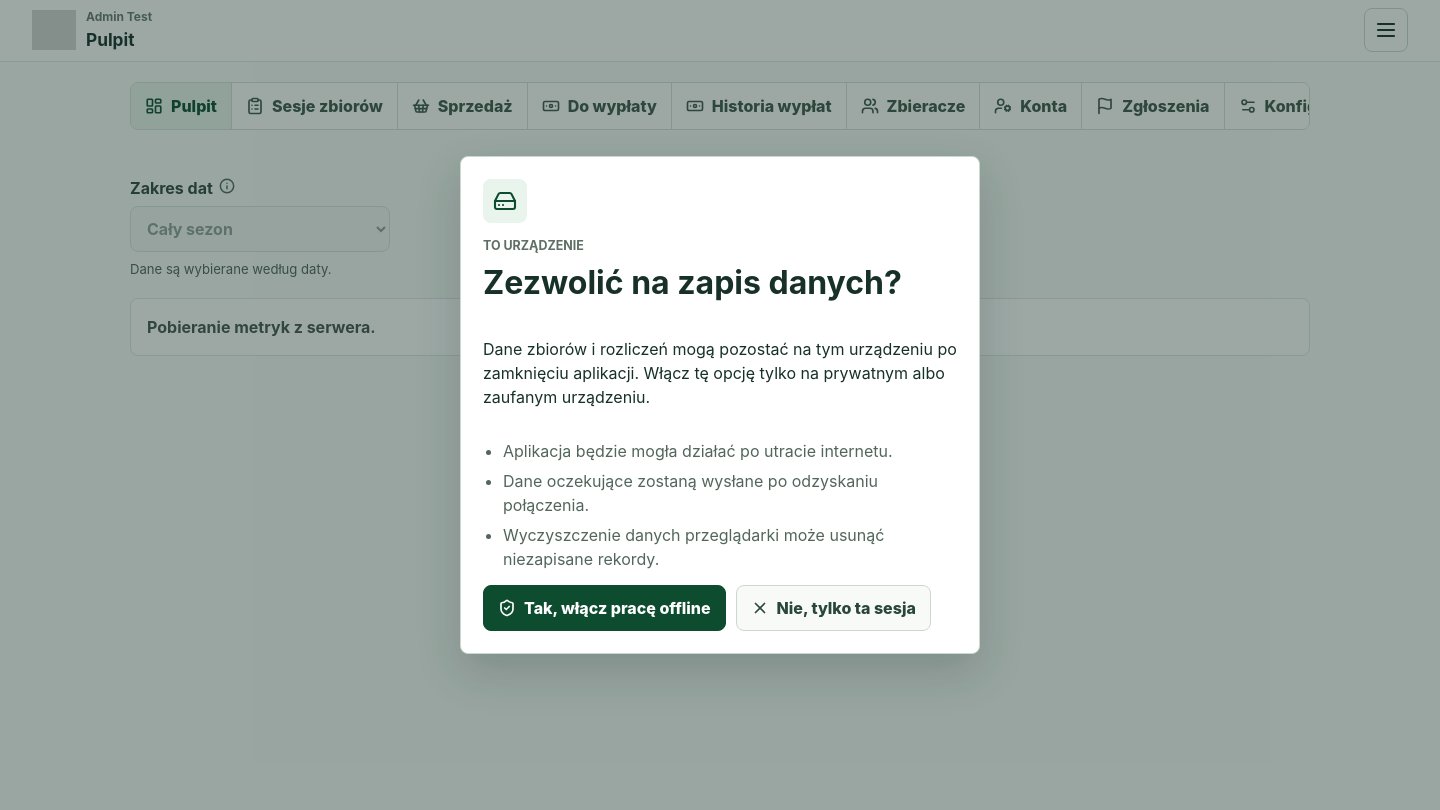
App shell › requires explicit consent before enabling persistent offline data
Expected: the dialog "Zezwolić na zapis danych?" is shown, [460,156,980,654]
Click the button "Tak, włącz pracę offline". click: [604, 608]
box: [483,585,726,631]
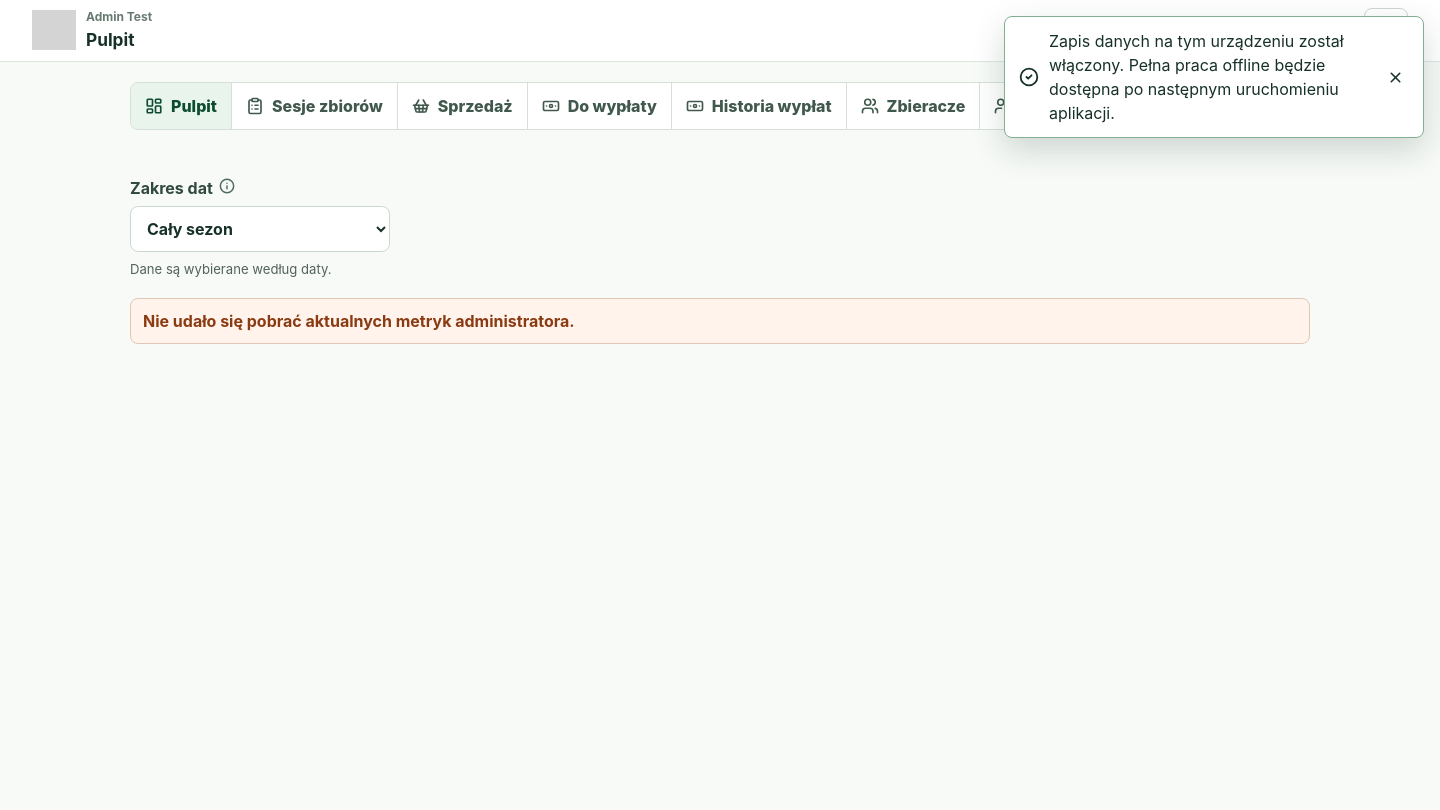
Expected: the dialog is gone
